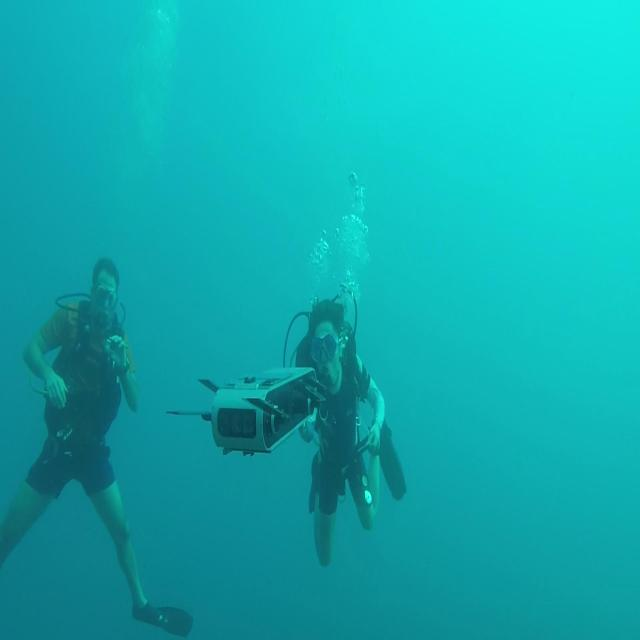human: (1, 255, 193, 637), (293, 296, 407, 567)
